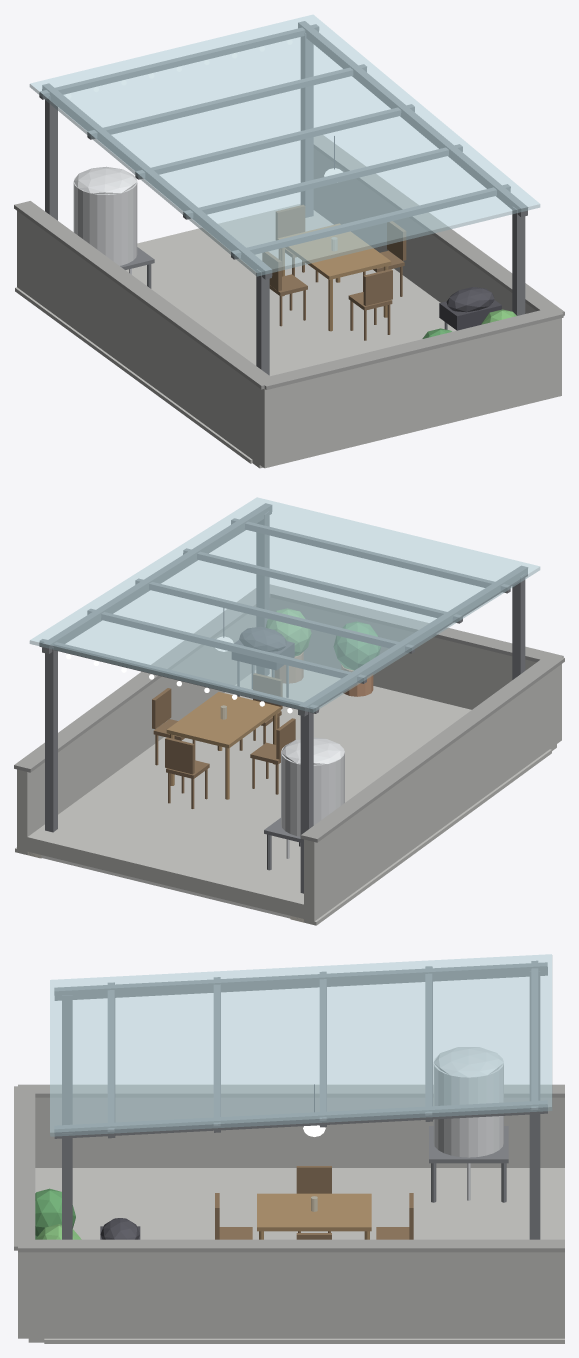
Rendered from tube_pergola.glb.
The picture shows the model from 3 angles, top to bottom: view 1: azimuth 30°, elevation 25°; view 2: azimuth 150°, elevation 25°; view 3: azimuth 270°, elevation 25°; orthographic projection. The views are drawn at different scales.
Parts seen in each view (by area): view 1: concrete, pergola_panel, steel_dark, concrete_dark, water_tank, wood_dark, wood, dark; view 2: concrete, pergola_panel, steel_dark, concrete_dark, wood_dark, water_tank, wood, dark, leaf_dark, green, trim, pot; view 3: concrete, pergola_panel, steel_dark, concrete_dark, water_tank, wood, wood_dark, leaf_dark, dark.
Boxes of the visible parts, x1,y1,x2,y2 form: concrete: (15, 148, 561, 468); pergola_panel: (29, 14, 540, 276); steel_dark: (39, 21, 528, 375); concrete_dark: (14, 135, 564, 389); water_tank: (73, 166, 137, 265); wood_dark: (262, 205, 406, 340); wood: (277, 223, 391, 331); dark: (334, 136, 501, 330); concrete: (15, 597, 561, 925); pergola_panel: (29, 497, 540, 712); steel_dark: (39, 503, 527, 893); concrete_dark: (14, 584, 564, 842); wood_dark: (152, 673, 295, 808); water_tank: (281, 737, 344, 836); wood: (166, 692, 280, 799); dark: (223, 608, 294, 670); leaf_dark: (333, 621, 380, 670); green: (265, 608, 311, 656); trim: (41, 855, 290, 918); pot: (271, 652, 373, 696); concrete: (18, 1097, 564, 1343); pergola_panel: (50, 954, 552, 1136); steel_dark: (54, 960, 547, 1239); concrete_dark: (14, 1084, 564, 1252); water_tank: (433, 1047, 503, 1157); wood: (257, 1193, 371, 1239); wood_dark: (215, 1166, 413, 1239); leaf_dark: (35, 1188, 75, 1239); dark: (100, 1084, 314, 1239).
Size of the model in its own units: 4.39 by 2.9 by 6.25.
